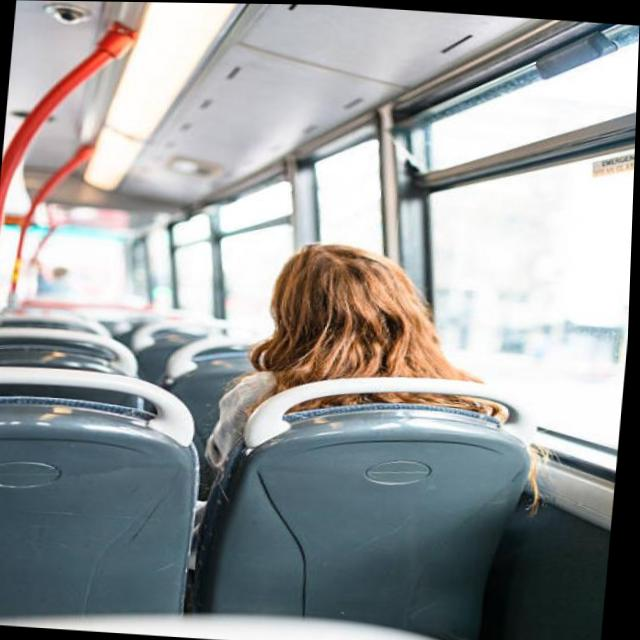no helmet: (229, 227, 539, 441)
